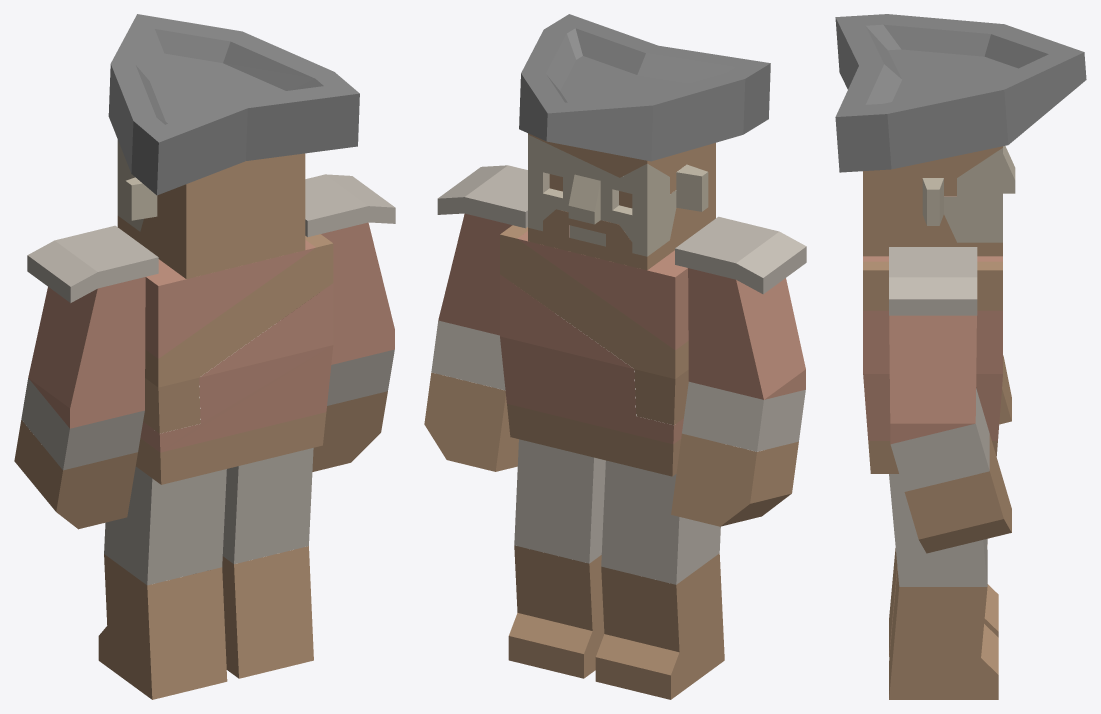
Rendered from player-mage.glb.
The picture shows the model from 3 angles, left to right: view 1: azimuth 30°, elevation 25°; view 2: azimuth 150°, elevation 25°; view 3: azimuth 270°, elevation 25°; orthographic projection.
Visible parts, largest first — view 1: Group 122.001_3_0, body_2_1, body_2_0, Group 122_4_1, legLeft_5_1, armLeft_0_2, armLeft_0_0, legLeft_5_0, legRight_6_0, legRight_6_1, armRight_1_2, armRight_1_0 (+3 smaller); view 2: Group 122.001_3_0, body_2_1, body_2_0, legLeft_5_1, armLeft_0_0, armLeft_0_2, Group 122_4_0, legRight_6_0, legLeft_5_0, legRight_6_1, armLeft_0_1, Group 122_4_1 (+3 smaller); view 3: Group 122.001_3_0, legRight_6_0, armRight_1_0, armRight_1_2, Group 122_4_1, body_2_1, armRight_1_1, Group 122_4_0, legRight_6_1, body_2_0, legLeft_5_1, armLeft_0_1.
Part boxes in pixels (left/top/right/bottom): Group 122.001_3_0: left=108, top=14, right=359, bottom=195; body_2_1: left=140, top=240, right=333, bottom=452; body_2_0: left=136, top=234, right=333, bottom=484; Group 122_4_1: left=117, top=153, right=305, bottom=278; legLeft_5_1: left=98, top=554, right=227, bottom=699; armLeft_0_2: left=28, top=277, right=145, bottom=428; armLeft_0_0: left=21, top=225, right=158, bottom=470; legLeft_5_0: left=104, top=466, right=226, bottom=585; legRight_6_0: left=222, top=546, right=313, bottom=678; legRight_6_1: left=222, top=448, right=313, bottom=564; armRight_1_2: left=321, top=222, right=394, bottom=364; armRight_1_0: left=305, top=174, right=395, bottom=405; Group 122.001_3_0: left=519, top=14, right=770, bottom=161; body_2_1: left=500, top=225, right=688, bottom=444; body_2_0: left=500, top=225, right=688, bottom=476; legLeft_5_1: left=595, top=553, right=724, bottom=699; armLeft_0_0: left=675, top=216, right=806, bottom=451; armLeft_0_2: left=688, top=268, right=805, bottom=399; Group 122_4_0: left=528, top=134, right=708, bottom=256; legRight_6_0: left=508, top=545, right=604, bottom=678; legLeft_5_0: left=601, top=460, right=720, bottom=584; legRight_6_1: left=514, top=439, right=605, bottom=563; armLeft_0_1: left=671, top=433, right=798, bottom=526; Group 122_4_1: left=528, top=133, right=715, bottom=270; Group 122.001_3_0: left=835, top=14, right=1086, bottom=172; legRight_6_0: left=889, top=569, right=998, bottom=699; armRight_1_0: left=889, top=247, right=989, bottom=491; armRight_1_2: left=889, top=315, right=976, bottom=444; Group 122_4_1: left=863, top=146, right=1002, bottom=256; body_2_1: left=863, top=196, right=1002, bottom=440; armRight_1_1: left=904, top=434, right=1011, bottom=553; Group 122_4_0: left=922, top=146, right=1015, bottom=242; legRight_6_1: left=889, top=474, right=987, bottom=586; body_2_0: left=863, top=261, right=1002, bottom=473; legLeft_5_1: left=889, top=544, right=998, bottom=656; armLeft_0_1: left=999, top=355, right=1011, bottom=424.
Size of the model in its own units: 0.6239 by 1.09 by 0.4096.
